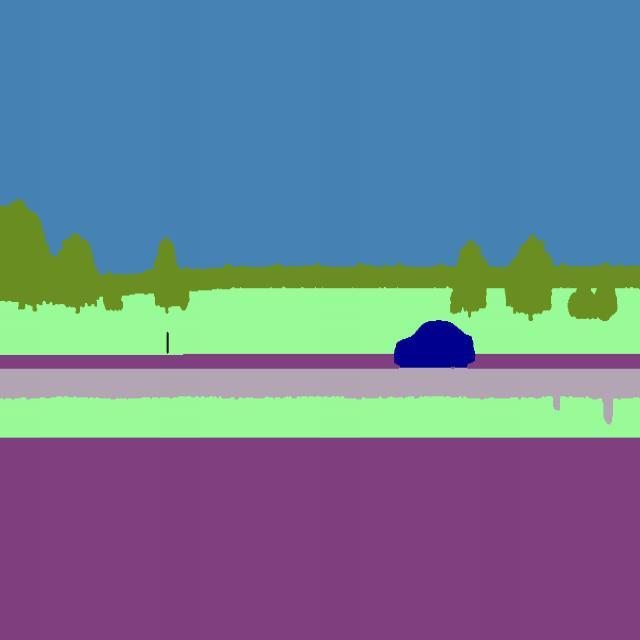safe: (390, 315, 480, 370)
